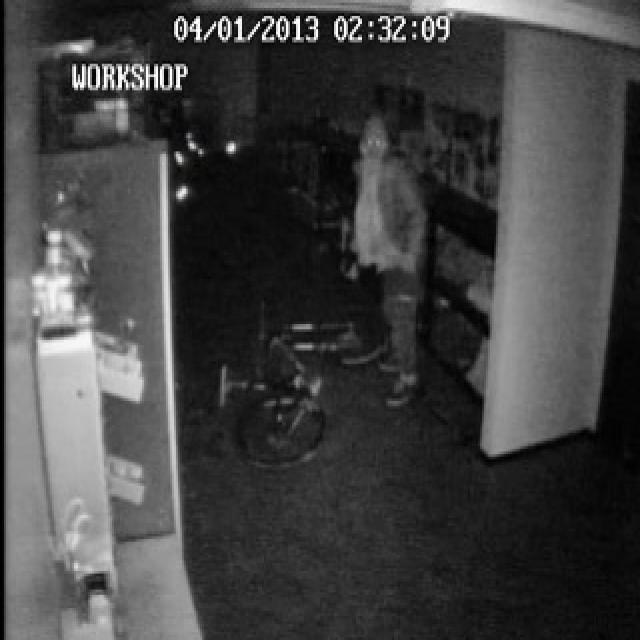thief: (352, 108, 423, 368)
